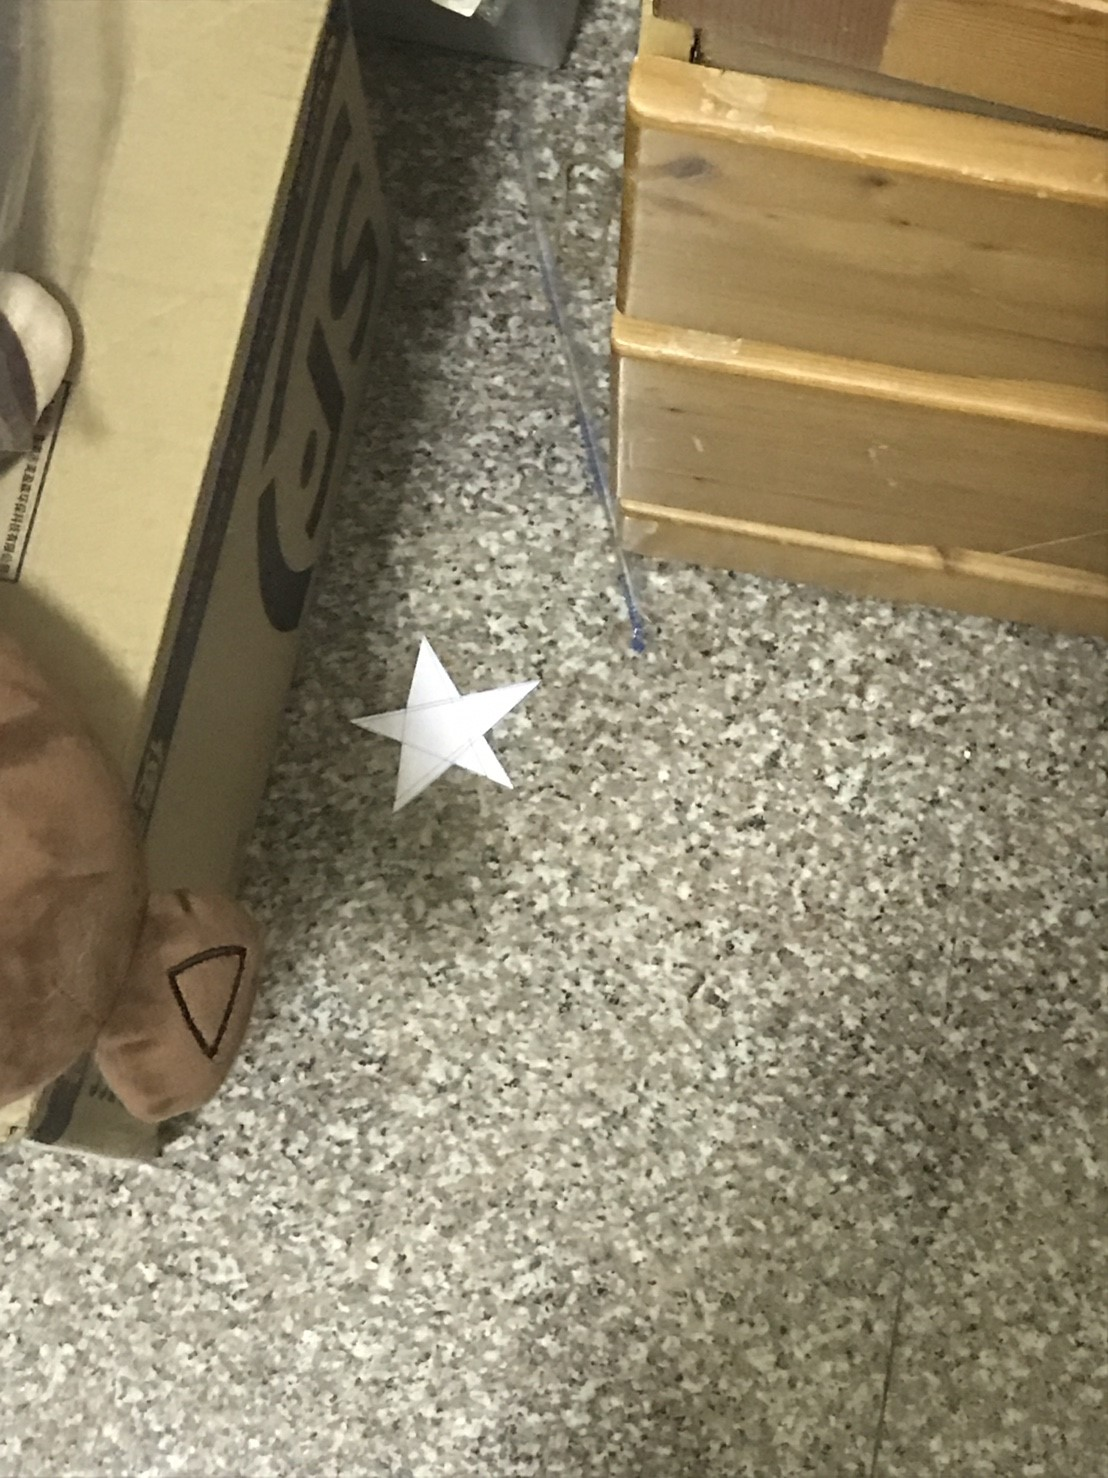star: (331, 628, 539, 816)
